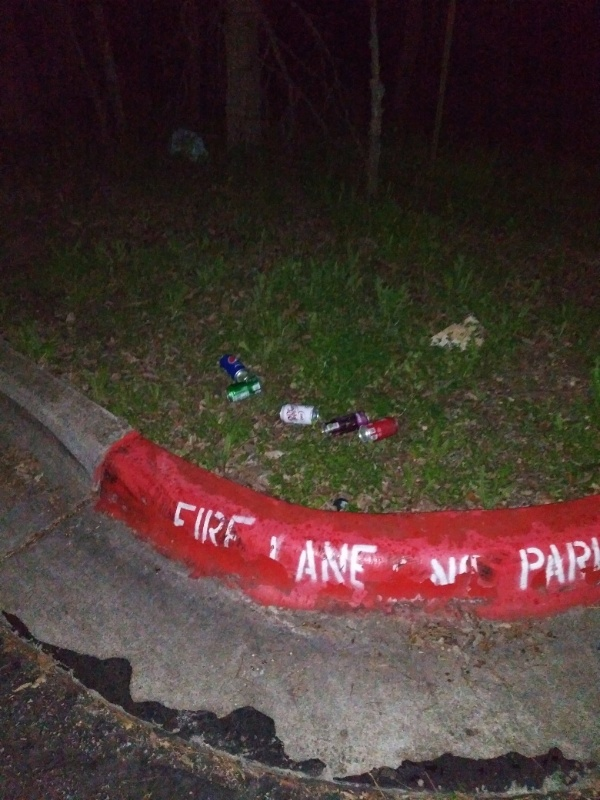can: (319, 409, 371, 442), (356, 415, 403, 447), (215, 349, 254, 383), (224, 377, 263, 408), (275, 402, 321, 424)
